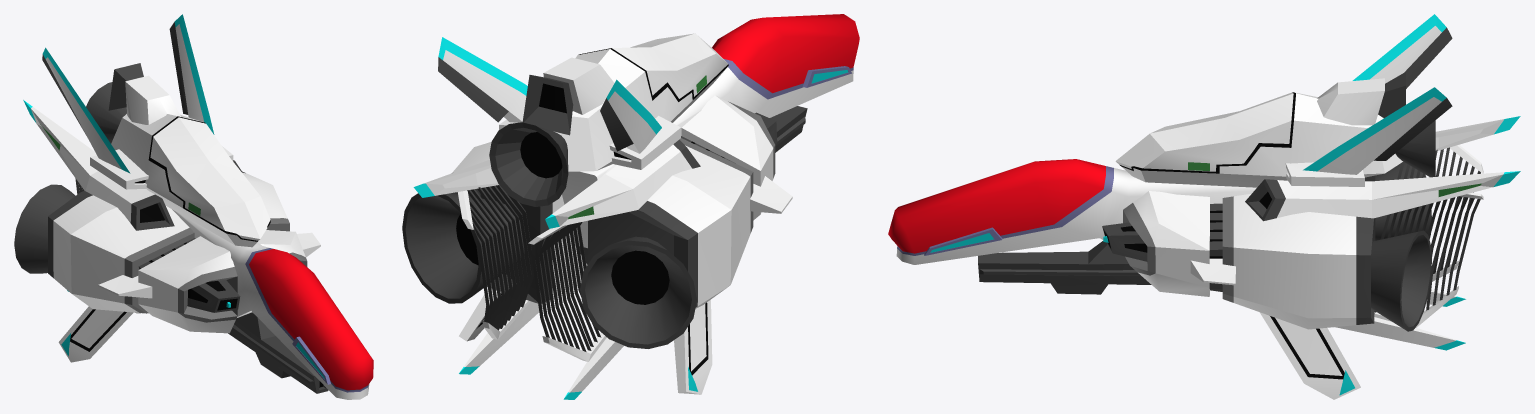
Rendered from player4.glb.
3 renders of one model, left to right at view 1: azimuth 30°, elevation 25°; view 2: azimuth 150°, elevation 25°; view 3: azimuth 270°, elevation 25°, orthographic. The views are drawn at different scales.
Visible parts, largest first — view 1: r-90; view 2: r-90; view 3: r-90.
Boxes of the visible parts, bbox=[...] form: r-90: bbox=[14, 14, 373, 399]; r-90: bbox=[402, 14, 859, 399]; r-90: bbox=[888, 14, 1520, 399].
Size of the model in its own units: 5.1 by 5.81 by 11.03.
1 material, 1 textured.
